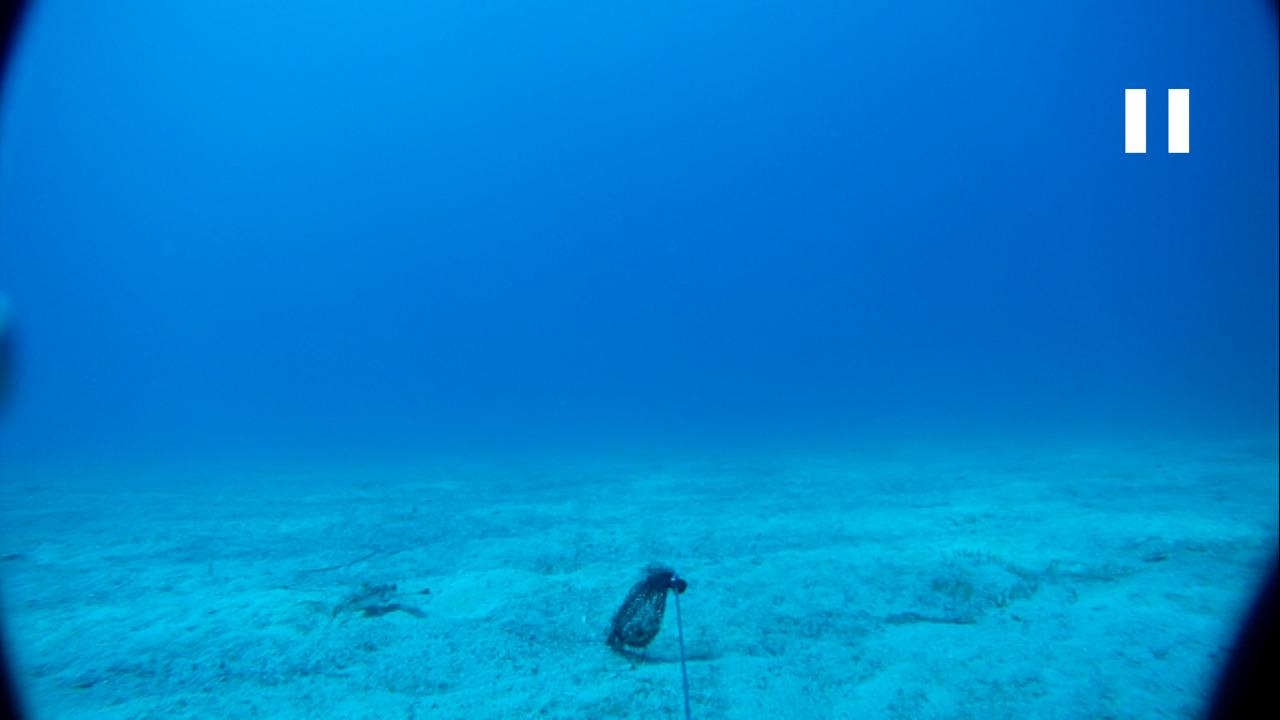dactylopterus: (299, 567, 431, 619)
